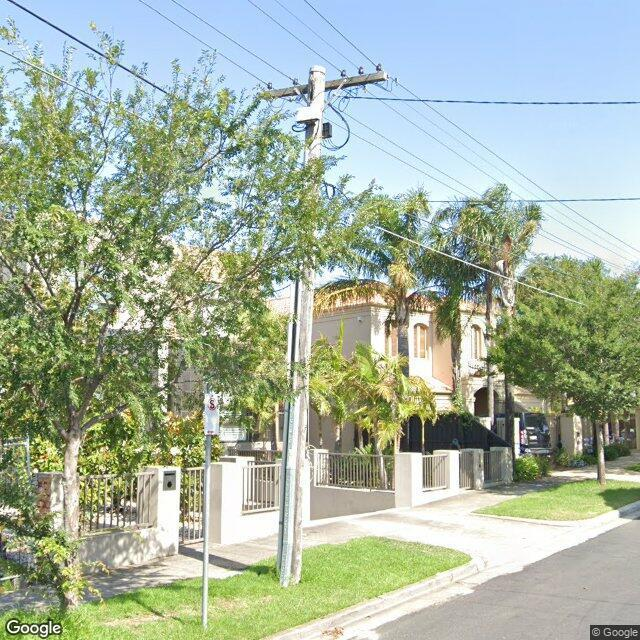crossarm: (264, 71, 388, 99)
timber-pole: (276, 65, 326, 588)
